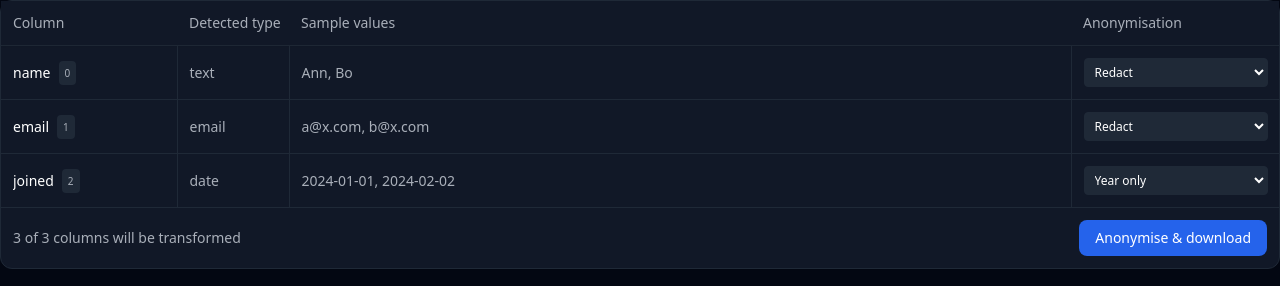
Test case: ColumnChooser › counts non-keep entries in the summary line
Expected: the text "3 of 3 columns will be transformed" is shown, [13,228,241,248]
Select "Keep" in the dropdown named "Anonymisation for name" at point(1176, 72), box [1084,58,1268,87]
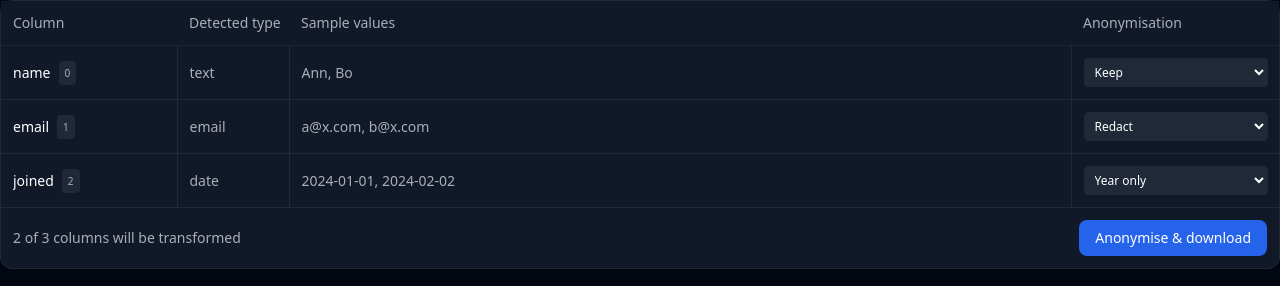
Expected: the text "2 of 3 columns will be transformed" is shown, [13,228,241,248]
